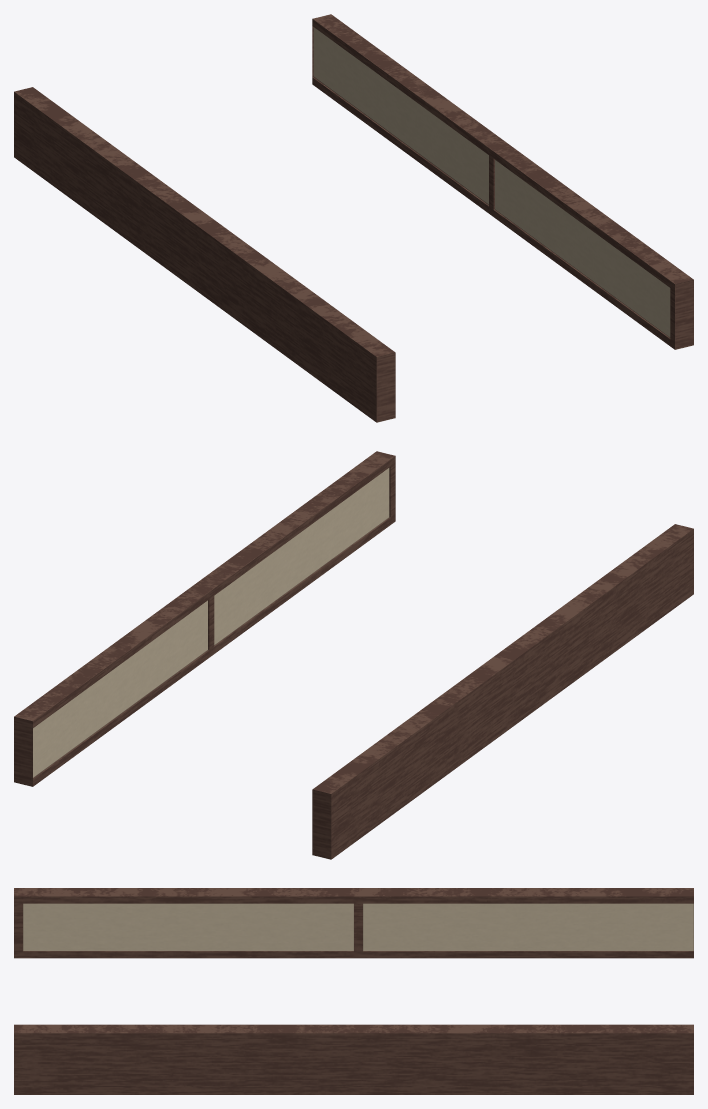
The model's file is wall_upper.glb.
The picture shows the model from 3 angles, top to bottom: view 1: azimuth 30°, elevation 25°; view 2: azimuth 150°, elevation 25°; view 3: azimuth 270°, elevation 25°; orthographic projection. The views are drawn at different scales.
Parts seen in each view (by area): view 1: WallUpper; view 2: WallUpper; view 3: WallUpper.
Part boxes in pixels (box(x1,y1,x2,y2)): WallUpper: box(14, 14, 693, 422); WallUpper: box(14, 451, 693, 859); WallUpper: box(14, 888, 693, 1094).
Bounding box in the file's own units: 3.29 × 0.65 × 6.51.
Materials: 2 (2 with a texture image).
